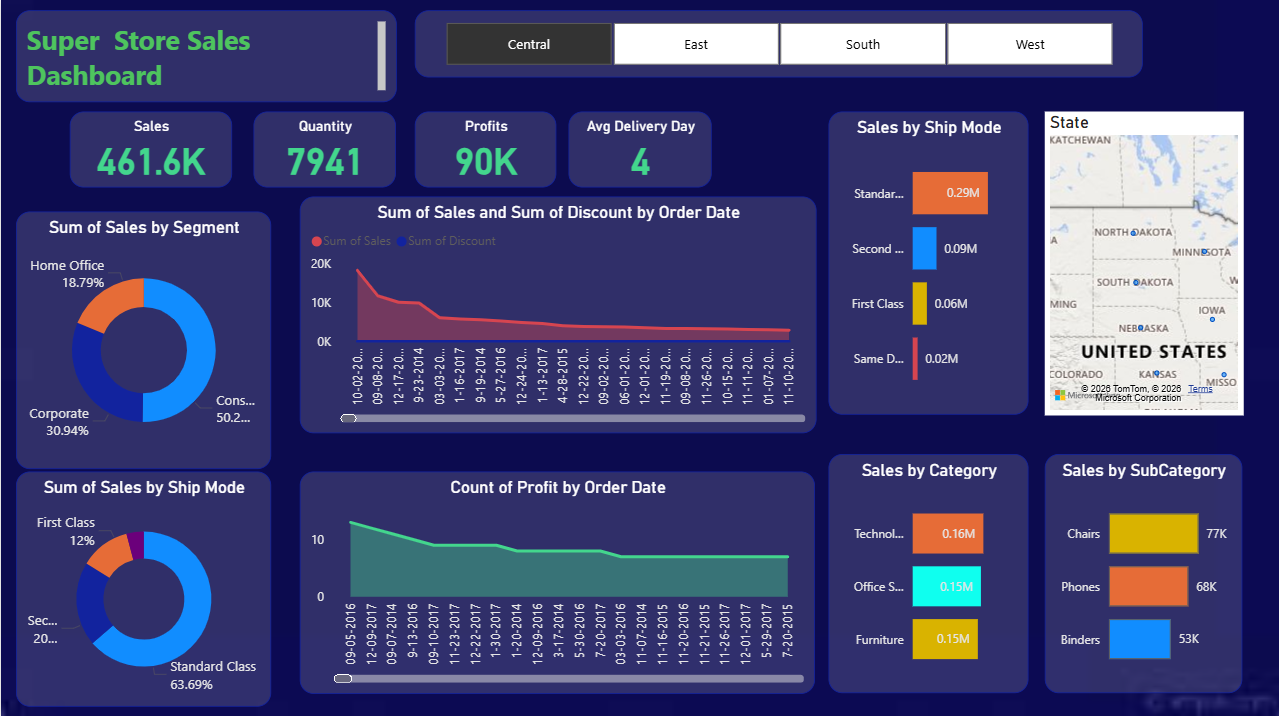

The dashboard page shown, as its layout file describes it:
{"tool":"powerbi","page":{"name":"Page 1","canvas":[1280,720],"ordinal":0},"visuals":[{"type":"clusteredBarChart","title":" Sales by Category","fields":{"Category":["Sales Performance Analysis.Category"],"Y":["Sum(Sales Performance Analysis.Sales)"]},"box":[827,455.2,200,239.3],"z":0},{"type":"barChart","title":" Sales by SubCategory","fields":{"Category":["Sales Performance Analysis.Sub/Category"],"Y":["Sum(Sales Performance Analysis.Sales)"]},"box":[1044.2,455.2,197.5,239.3],"z":1000},{"type":"barChart","title":" Sales by Ship Mode","fields":{"Category":["Sales Performance Analysis.Ship Mode"],"Y":["Sum(Sales Performance Analysis.Sales)"]},"box":[827,112.9,200,303.1],"z":2000},{"type":"areaChart","fields":{"Category":["Sales Performance Analysis.Order Date"],"Y":["Sum(Sales Performance Analysis.Sales)","Sum(Sales Performance Analysis.Discount)"]},"box":[298.2,197.5,516.6,236.8],"z":3000},{"type":"stackedAreaChart","fields":{"Category":["Sales Performance Analysis.Order Date"],"Y":["CountNonNull(Sales Performance Analysis.Profit)"]},"box":[298.2,472.4,515.3,222.1],"z":4000},{"type":"donutChart","fields":{"Category":["Sales Performance Analysis.Segment"],"Y":["Sum(Sales Performance Analysis.Sales)"]},"box":[14.7,212.3,255.2,257.7],"z":5000},{"type":"donutChart","fields":{"Y":["Sum(Sales Performance Analysis.Sales)"],"Category":["Sales Performance Analysis.Ship Mode"]},"box":[14.7,472.4,255.2,235.6],"z":6000},{"type":"slicer","fields":{"Values":["Sales Performance Analysis.Region"]},"box":[413.9,11.1,727.8,67.6],"z":7000},{"type":"textbox","box":[14.8,11.1,380.6,91.7],"z":8000},{"type":"card","title":"Sales","fields":{"Values":["Sum(Sales Performance Analysis.Sales)"]},"box":[68.5,113,162,75.9],"z":9000},{"type":"card","title":"Quantity","fields":{"Values":["Sum(Sales Performance Analysis.Quantity)"]},"box":[252.8,113,142.6,75.9],"z":10000},{"type":"card","title":"Profits","fields":{"Values":["Sum(Sales Performance Analysis.Profit)"]},"box":[413.9,113,141.7,75.9],"z":11000},{"type":"card","title":"Avg Delivery Day","fields":{"Values":["Avg(Sales Performance Analysis.AvgDelivery)"]},"box":[567.6,113,143.5,75.9],"z":12000},{"type":"map","fields":{"Category":["Sales Performance Analysis.State"]},"box":[1044,113,198,303],"z":13000}]}

Visuals, with their boxes in screenshot pixels (x1, y1, x2, y2), scaled from the page's 1280x720 canvas onto the 1279x716 screenshot:
" Sales by Category" clusteredBarChart: (826, 453, 1026, 691)
" Sales by SubCategory" barChart: (1043, 453, 1241, 691)
" Sales by Ship Mode" barChart: (826, 112, 1026, 414)
areaChart - Sales Performance Analysis.Order Date x Sum(Sales Performance Analysis.Sales): (298, 196, 814, 432)
stackedAreaChart - Sales Performance Analysis.Order Date x CountNonNull(Sales Performance Analysis.Profit): (298, 470, 813, 691)
donutChart - Sales Performance Analysis.Segment x Sum(Sales Performance Analysis.Sales): (15, 211, 270, 467)
donutChart - Sum(Sales Performance Analysis.Sales) x Sales Performance Analysis.Ship Mode: (15, 470, 270, 704)
slicer - Sales Performance Analysis.Region: (414, 11, 1141, 78)
textbox: (15, 11, 395, 102)
"Sales" card: (68, 112, 230, 188)
"Quantity" card: (253, 112, 395, 188)
"Profits" card: (414, 112, 555, 188)
"Avg Delivery Day" card: (567, 112, 711, 188)
map - Sales Performance Analysis.State: (1043, 112, 1241, 414)
